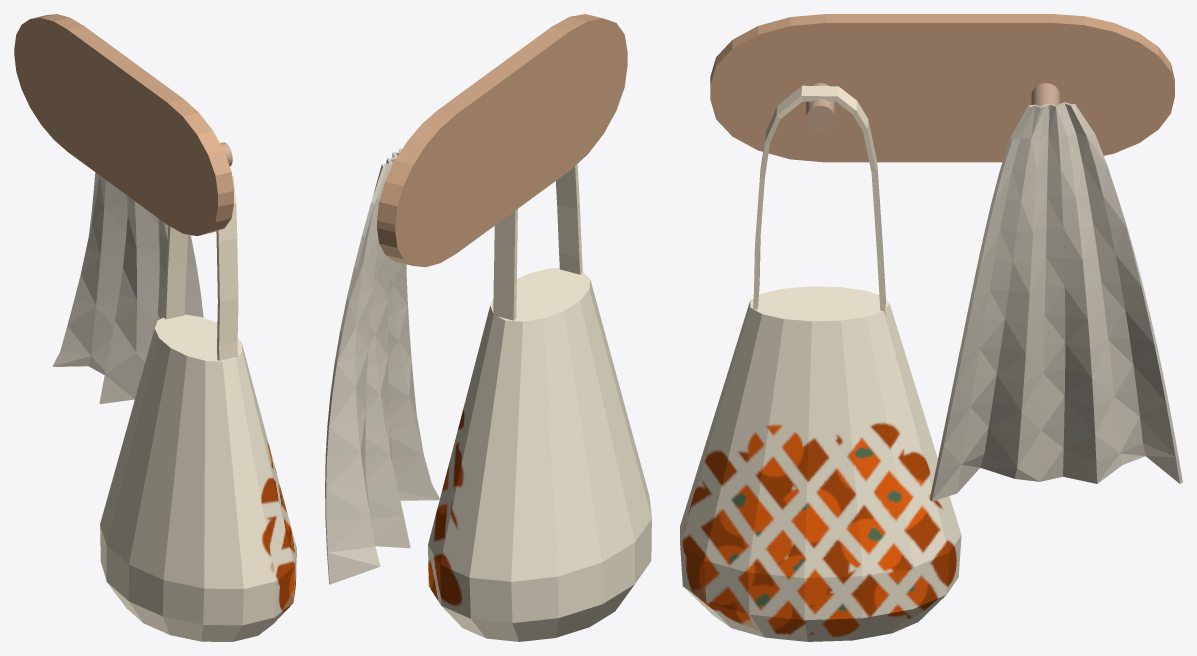
Rendered from perchero este.fbx.
3 renders of one model, left to right at view 1: azimuth 30°, elevation 25°; view 2: azimuth 150°, elevation 25°; view 3: azimuth 270°, elevation 25°, orthographic. The views are drawn at different scales.
Parts seen in each view (by area): view 1: Cylinder, Cube, Trapo_LowPoly, Plane; view 2: Cylinder, Cube, Trapo_LowPoly, Plane; view 3: Cylinder, Trapo_LowPoly, Cube, Plane, PERCHERO.002.
Boxes of the visible parts, left/top/right/bottom form: Cylinder: left=100, top=314, right=296, bottom=641; Cube: left=14, top=14, right=233, bottom=235; Trapo_LowPoly: left=52, top=172, right=203, bottom=403; Plane: left=164, top=172, right=238, bottom=360; Cylinder: left=428, top=268, right=651, bottom=641; Cube: left=377, top=14, right=627, bottom=267; Trapo_LowPoly: left=325, top=148, right=440, bottom=584; Plane: left=493, top=164, right=582, bottom=320; Cylinder: left=680, top=286, right=961, bottom=641; Trapo_LowPoly: left=929, top=102, right=1182, bottom=501; Cube: left=710, top=14, right=1174, bottom=162; Plane: left=752, top=85, right=885, bottom=315; PERCHERO.002: left=806, top=83, right=834, bottom=131.
Size of the model in its own units: 33.04 by 107 by 82.42.
6 materials, 3 textured.
